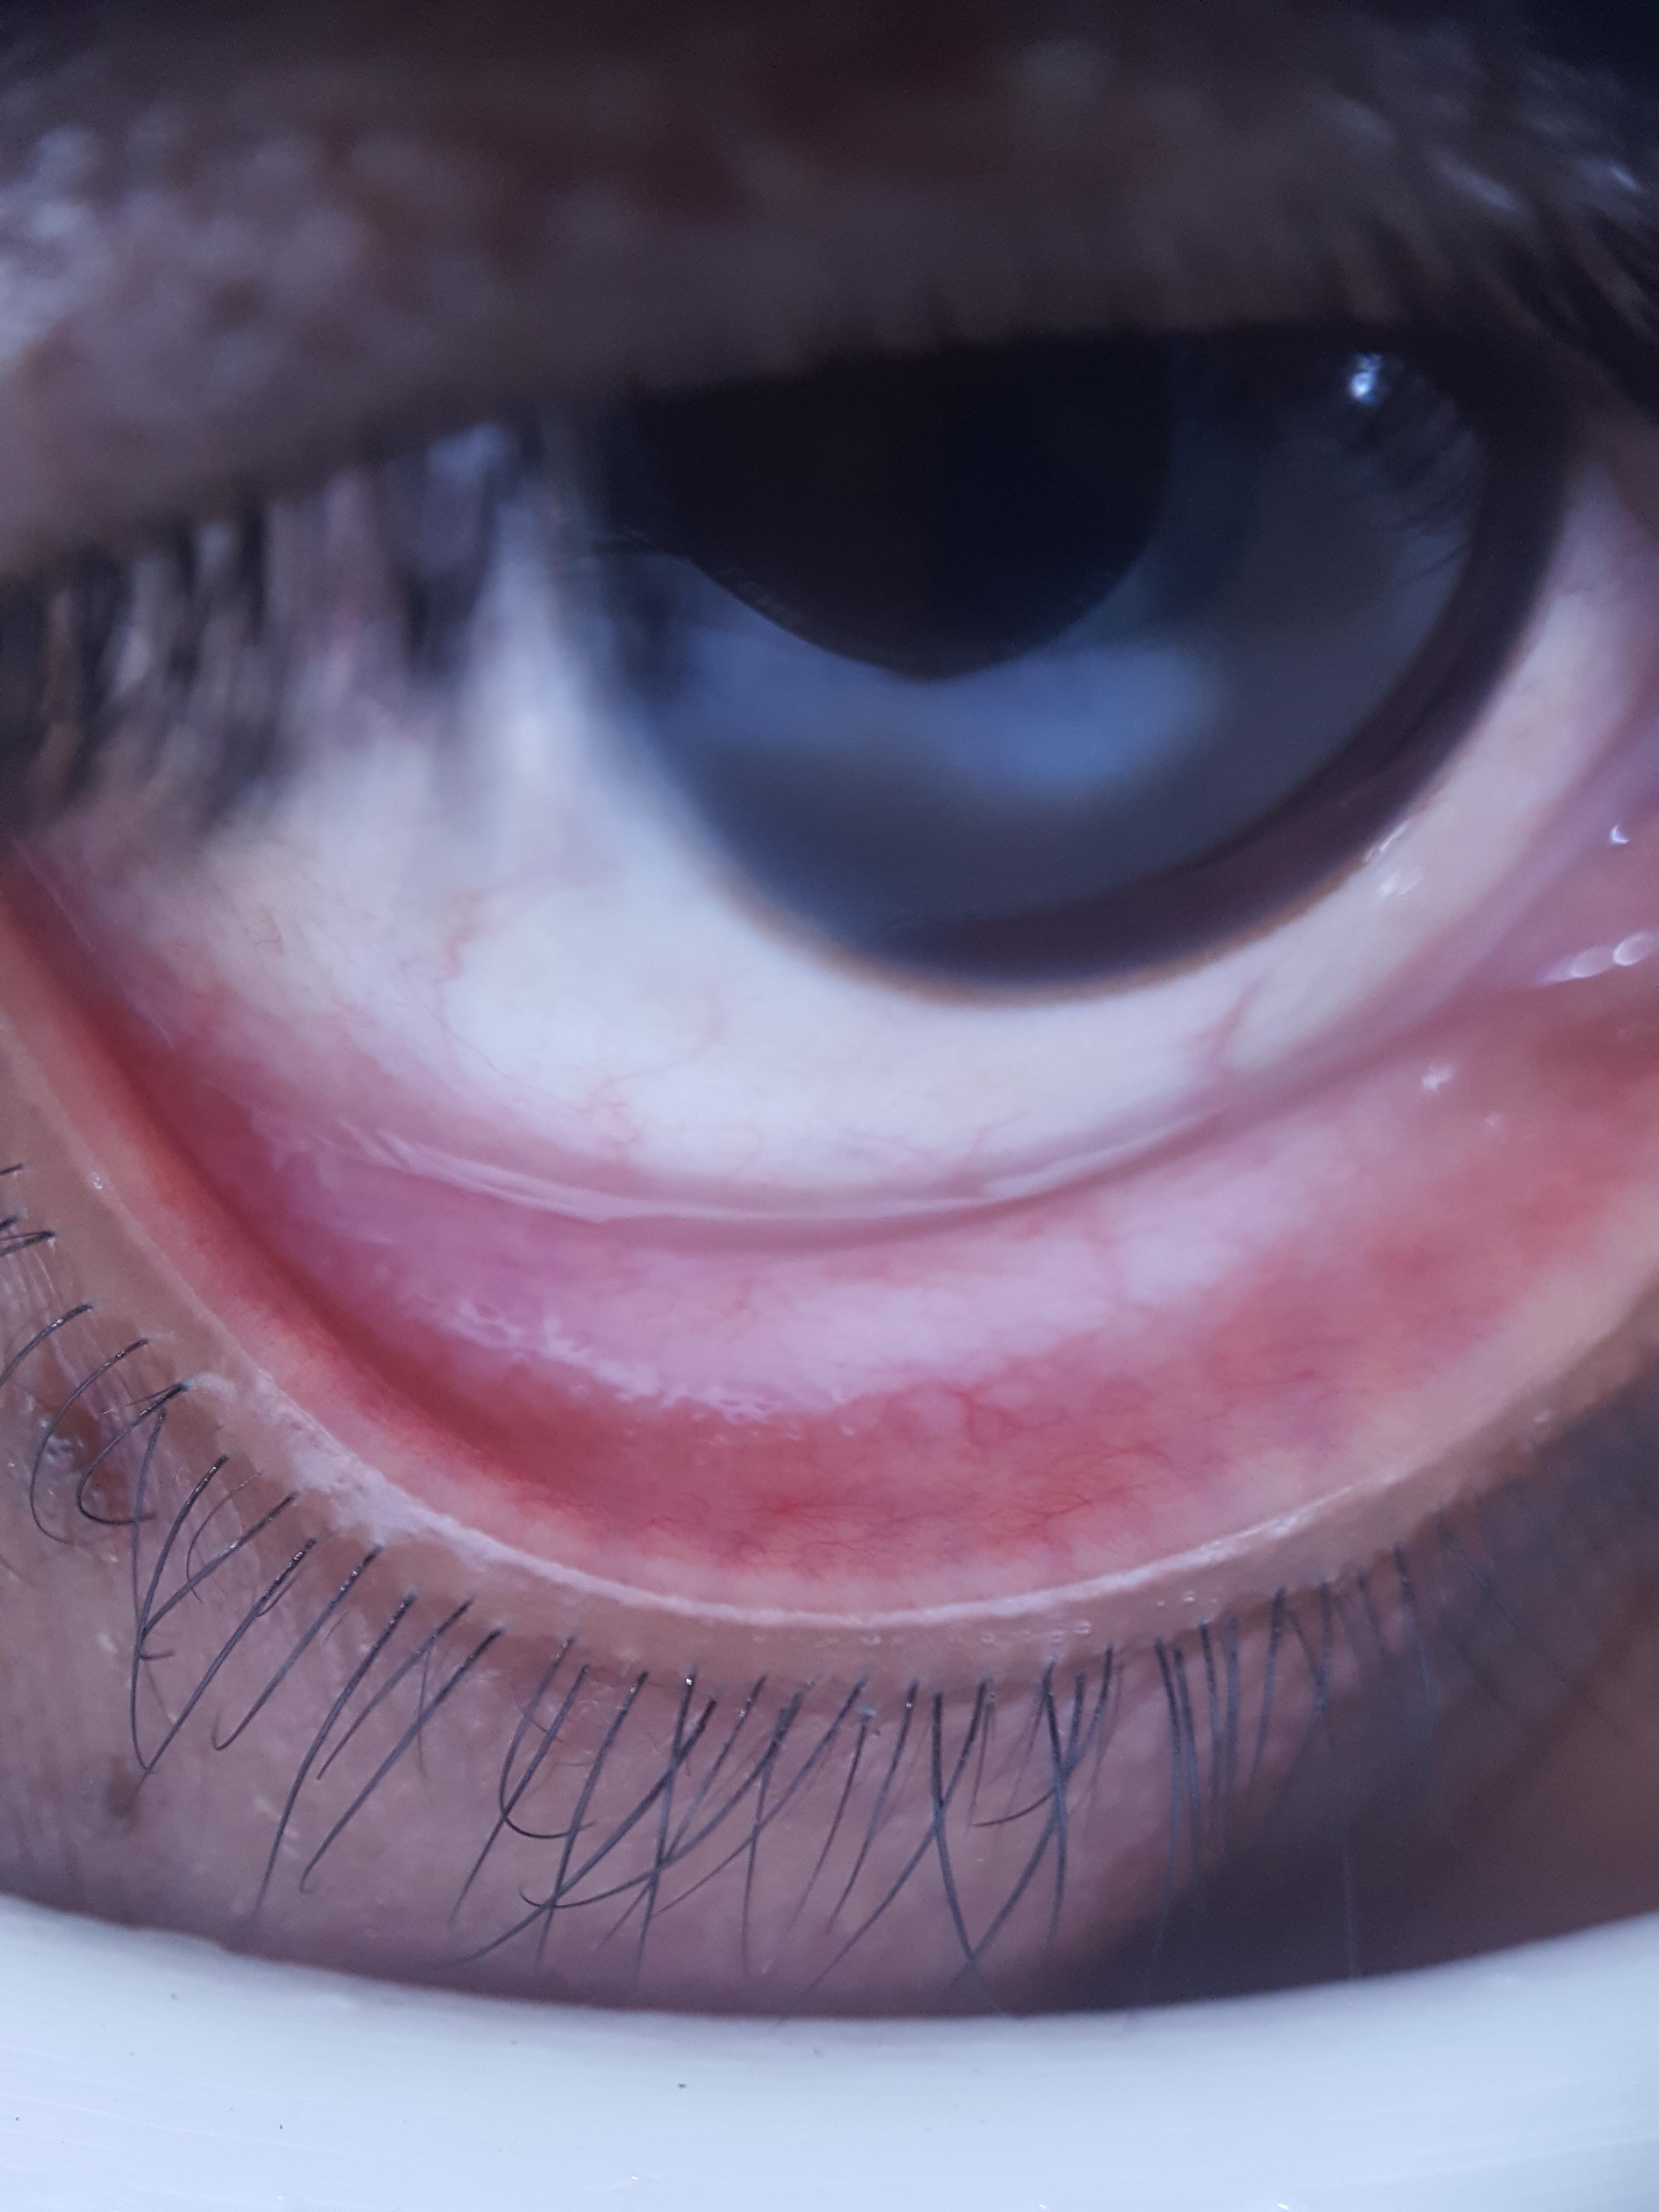forniceal: (113, 766, 1659, 1444)
forniceal_palpebral: (19, 728, 1659, 1599)
palpebral: (37, 967, 1659, 1583)
